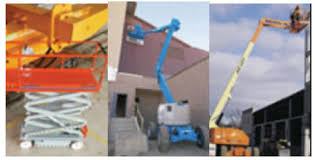Scissor Lift: (5, 40, 110, 151)
